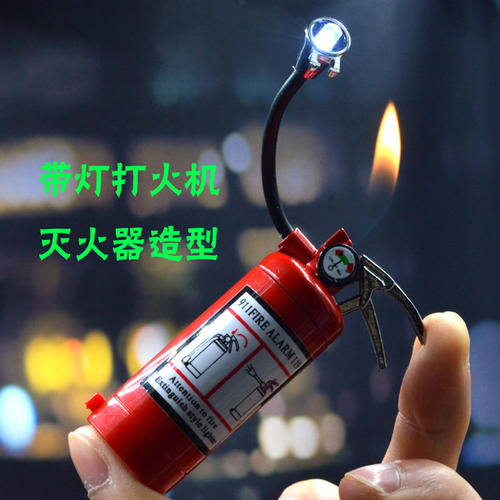fire: (355, 90, 416, 251)
